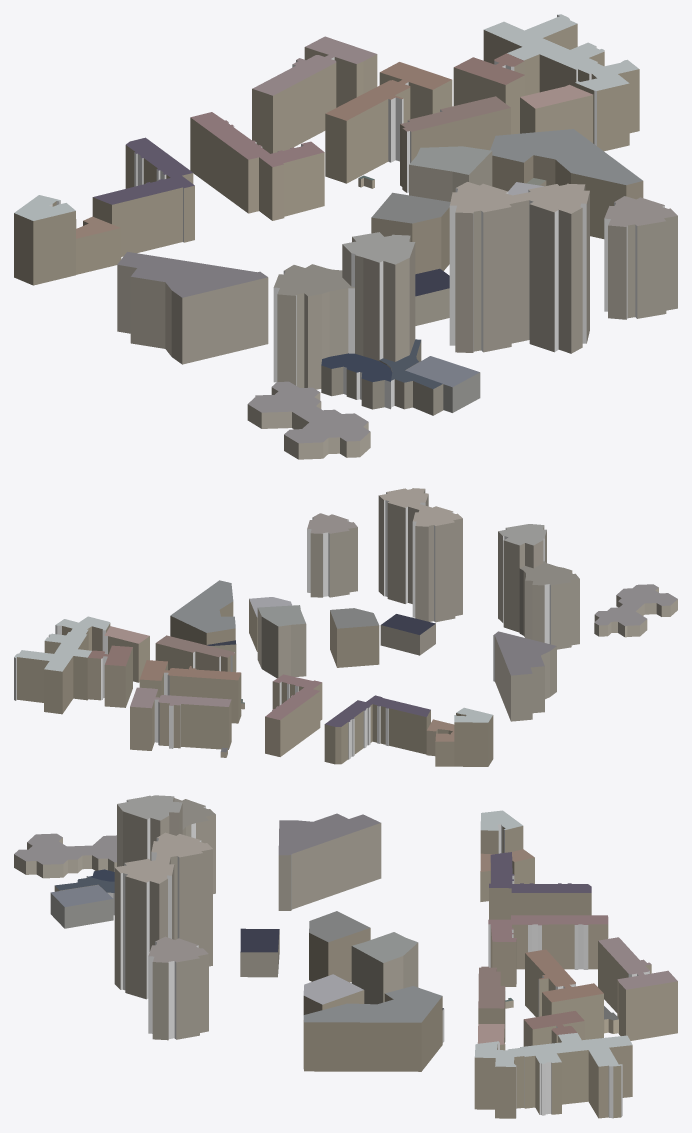
3 renders of one model, top to bottom at view 1: azimuth 30°, elevation 25°; view 2: azimuth 150°, elevation 25°; view 3: azimuth 270°, elevation 25°, orthographic. The views are drawn at different scales.
Parts seen in each view (by area): view 1: tuile; view 2: tuile; view 3: tuile.
Part boxes in pixels (x1,y1,x2,y2): tuile: [14, 14, 677, 459]; tuile: [14, 488, 677, 766]; tuile: [14, 795, 677, 1118].
Bounding box in the file's own units: 262 × 63.05 × 291.
